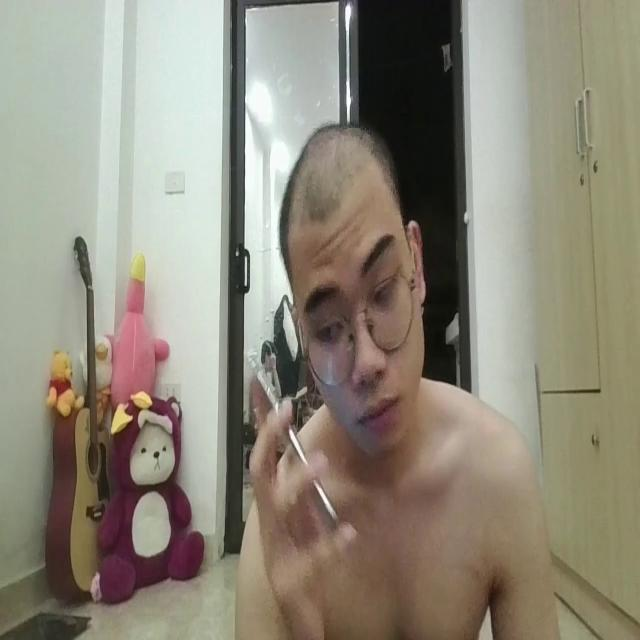phone: (242, 332, 356, 534)
student: (222, 104, 574, 640)
